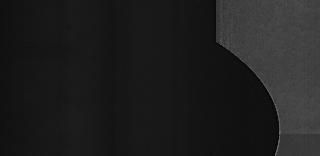welding line: (272, 130, 320, 140)
